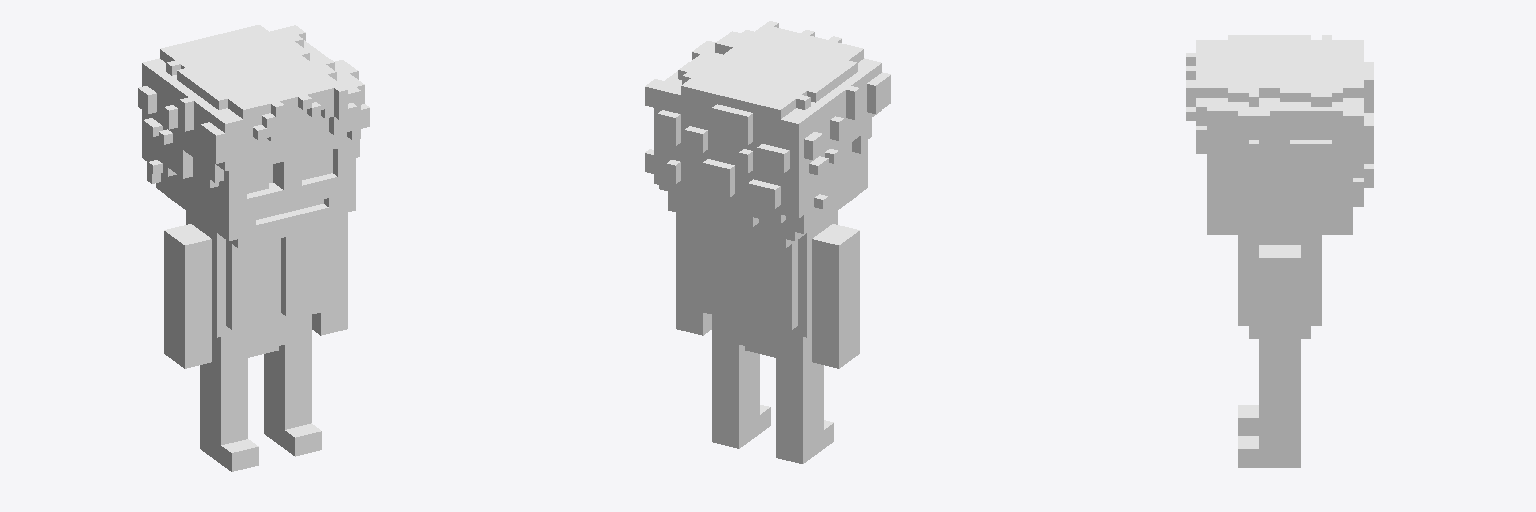
The model's file is guy.obj.
3 views of the same model, side by side, from view 1: azimuth 30°, elevation 25°; view 2: azimuth 150°, elevation 25°; view 3: azimuth 270°, elevation 25° (orthographic).
Parts seen in each view (by area): view 1: object 1; view 2: object 1; view 3: object 1.
Boxes of the visible parts, <box> form: object 1: <box>138,25,369,471</box>; object 1: <box>645,21,890,463</box>; object 1: <box>1186,35,1373,467</box>.
Size of the model in its own units: 1.8 by 4 by 1.8.